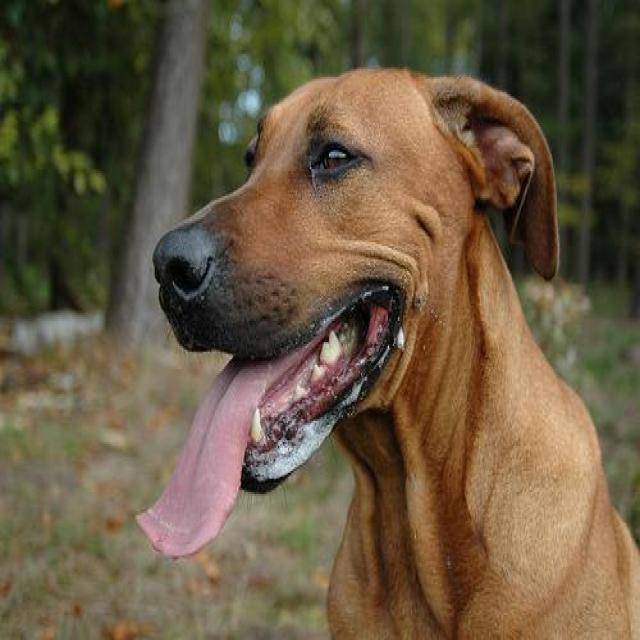rhodesian_ridgeback: (131, 62, 638, 638)
